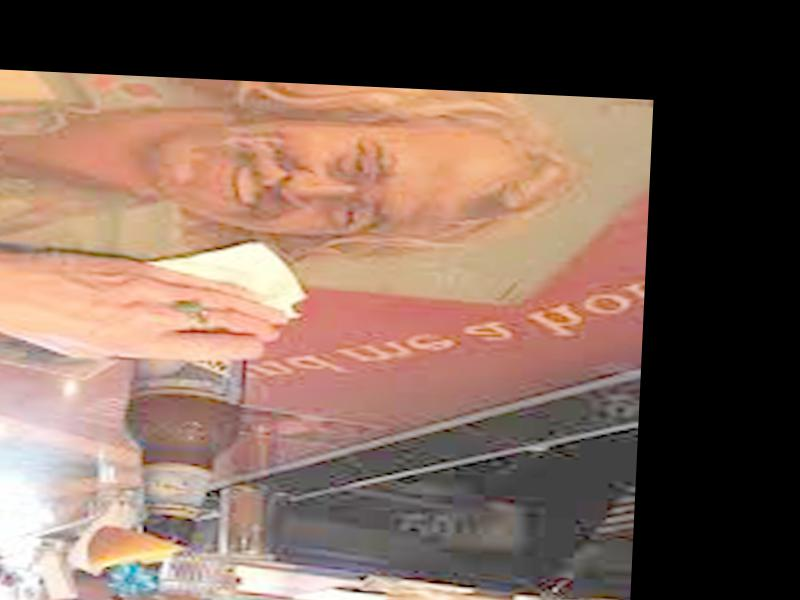Beer: (126, 278, 254, 554)
